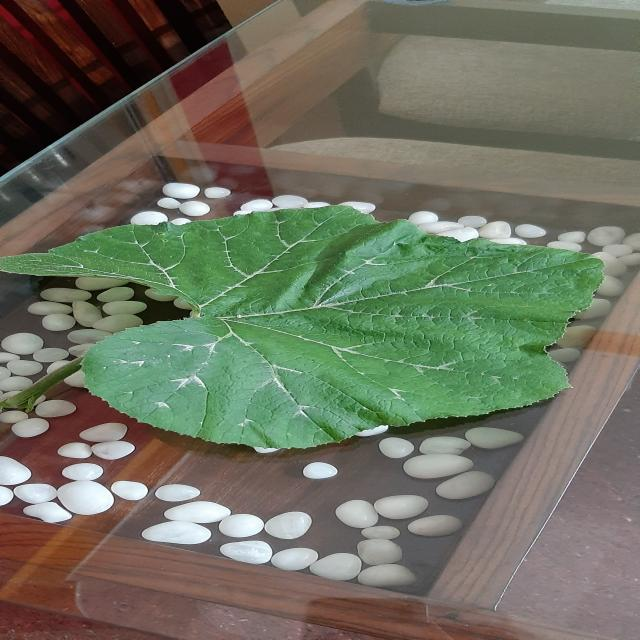pumpkin: (3, 205, 599, 448)
